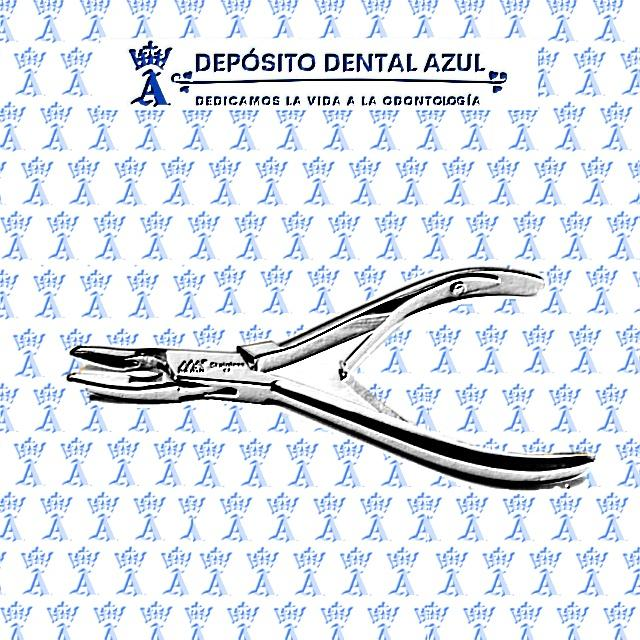gubia: (65, 263, 599, 494)
